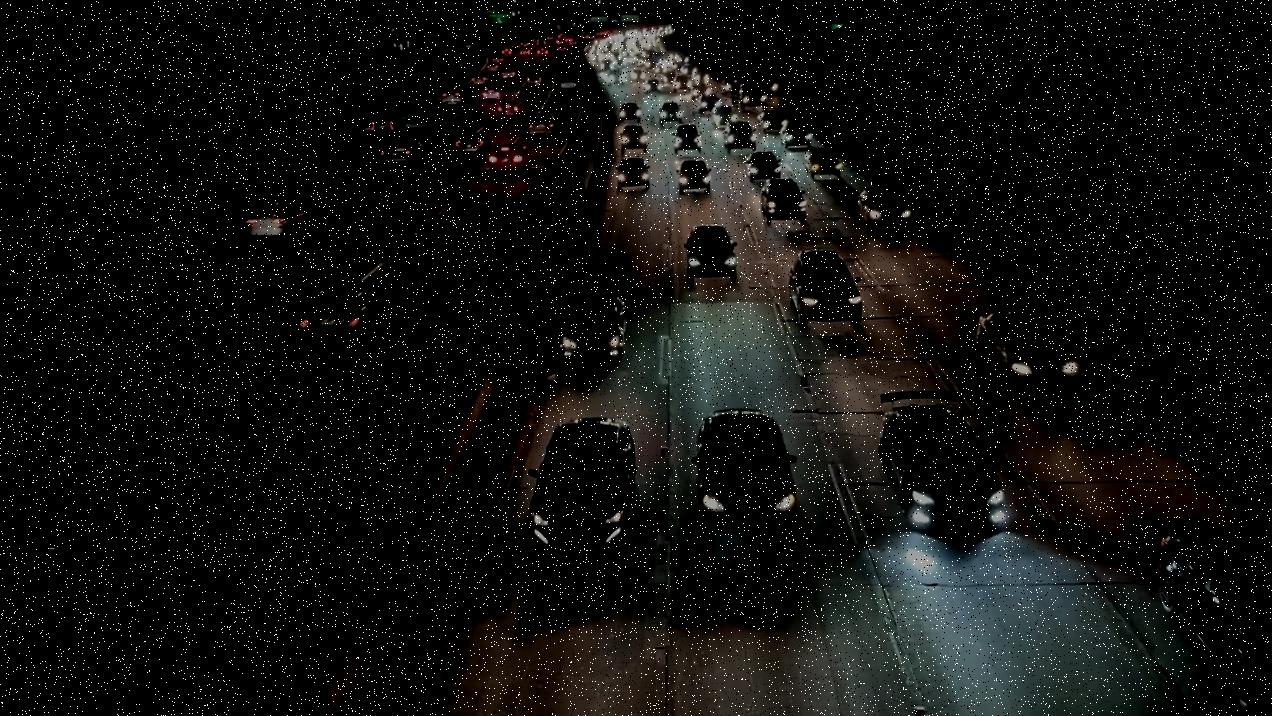car: (1154, 524, 1271, 714), (879, 385, 1001, 542), (518, 414, 634, 558), (688, 407, 799, 539), (976, 309, 1081, 390), (292, 280, 391, 347), (786, 249, 864, 326), (556, 293, 626, 362), (683, 225, 739, 279), (240, 201, 313, 241), (855, 189, 914, 230), (761, 178, 805, 221), (380, 134, 423, 167), (484, 142, 533, 170), (678, 160, 712, 192), (617, 157, 649, 190), (746, 150, 781, 179), (805, 148, 841, 175), (619, 125, 650, 154), (452, 132, 488, 154), (672, 123, 699, 152), (528, 112, 559, 137), (370, 115, 406, 132)
